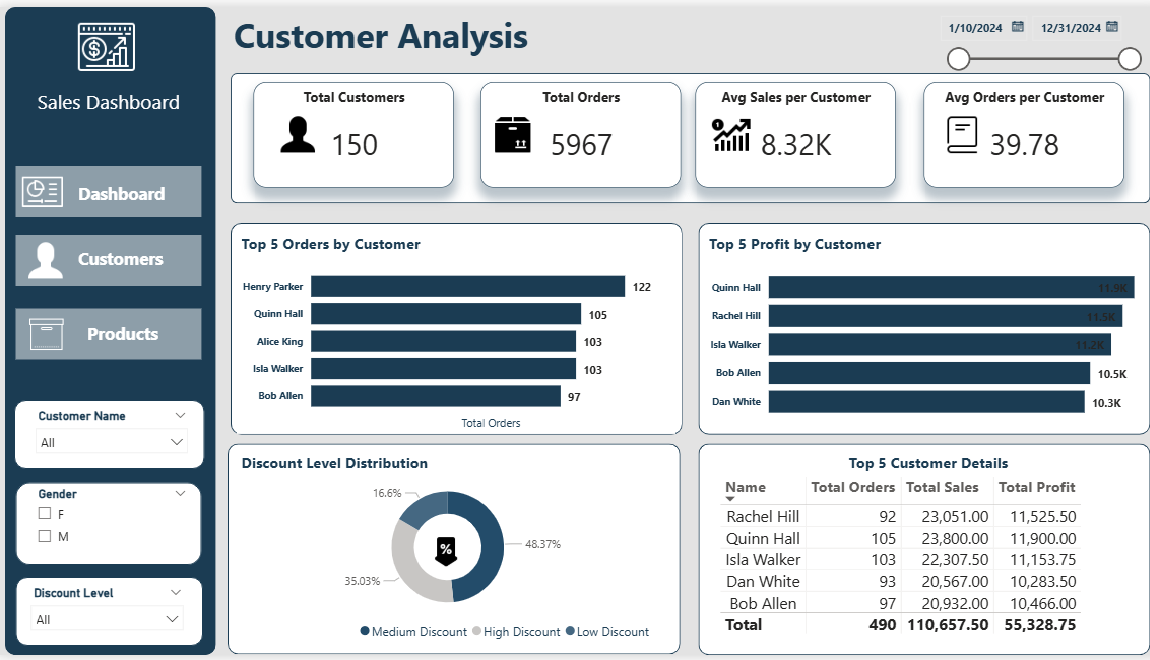

What the dashboard file says about the page in this screenshot:
{"tool":"powerbi","page":{"name":"Customer Analysis","canvas":[1280,720],"ordinal":1},"visuals":[{"type":"shape","box":[9.4,0,230.6,720],"z":0},{"type":"actionButton","box":[21.7,176.7,203.2,56.7],"z":0,"group":"g1"},{"type":"shape","box":[255.9,73.1,1006.1,144.6],"z":1000},{"type":"image","box":[21.7,176.7,58.6,56.7],"z":1000,"group":"g1"},{"type":"textbox","box":[255.1,0,619.8,66.1],"z":2000},{"type":"textbox","box":[85.4,193.4,127.4,40],"z":2000,"group":"g1"},{"type":"shape","box":[255.9,240,494.3,235.2],"z":3000},{"type":"actionButton","box":[21.7,253.4,203.2,56.7],"z":3000,"group":"g1"},{"type":"card","title":"Avg Orders per Customer","fields":{"Values":["Sales.Avg Orders per Customers"]},"box":[1014.8,83.2,219.2,117.2],"z":4000},{"type":"textbox","box":[85.4,266.7,142.9,43.3],"z":4000,"group":"g1"},{"type":"card","title":"Avg Sales per Customer","fields":{"Values":["Sales.Avg Sales per Customers"]},"box":[765.4,83.2,219.2,117.2],"z":5000},{"type":"actionButton","box":[21.7,335,203.2,56.7],"z":5000,"group":"g1"},{"type":"card","title":"Total Customers","fields":{"Values":["Count(Customers.Customer_ID)"]},"box":[281.6,83.2,219.2,117.2],"z":6000},{"type":"textbox","box":[95.8,340,111.9,51.7],"z":6000,"group":"g1"},{"type":"card","title":"Total Orders","fields":{"Values":["Sales.Total Orders"]},"box":[529.3,82.6,219.3,117.6],"z":7000},{"type":"image","box":[26.9,325,56.8,76.7],"z":7000,"group":"g1"},{"type":"image","box":[536.7,113.4,56.7,56.7],"z":8000},{"type":"image","box":[25.1,253.4,58.6,56.7],"z":8000,"group":"g1"},{"type":"image","box":[302.4,113.4,56.7,56.7],"z":9000},{"type":"image","box":[774.8,113.4,56.7,56.7],"z":10000},{"type":"shape","box":[767.7,240,494.3,235.2],"z":11000},{"type":"shape","box":[253.2,485.7,495.1,234.3],"z":12000},{"type":"shape","box":[767.7,484.8,494.3,235.2],"z":13000},{"type":"barChart","title":"Top 5 Orders by Customer","fields":{"Category":["Customers.Name"],"Y":["Sales.Total Orders"]},"box":[262.7,251.3,480,223],"z":14000},{"type":"barChart","title":"Top 5 Profit by Customer","fields":{"Category":["Customers.Name"],"Y":["Sales.Total Profit"]},"box":[774.8,251.3,478.1,217.3],"z":15000},{"type":"donutChart","title":"Discount Level Distribution","fields":{"Category":["Sales.Discount Level"],"Y":["Sum(Sales.Discount)"]},"box":[262.7,495.1,461.1,217.3],"z":16000},{"type":"image","box":[468.9,577,47.7,57.2],"z":17000},{"type":"tableEx","title":"Top 5 Customer Details","fields":{"Values":["Customers.Name","Sales.Total Orders","Sales.Total Sales","Sales.Total Profit"]},"box":[786.7,495,466.7,216.7],"z":18000},{"type":"shape","box":[20,436.7,208.3,76.7],"z":19000},{"type":"slicer","fields":{"Values":["Customers.Name"]},"box":[33.3,441.7,186.7,66.7],"z":20000},{"type":"shape","box":[21.7,633.3,205,76.7],"z":21000},{"type":"slicer","fields":{"Values":["Sales.Discount Level"]},"box":[28.3,638.3,186.7,66.7],"z":22000},{"type":"slicer","fields":{"Values":["Sales.Date"]},"box":[1020.4,0,241.6,73.1],"z":23000},{"type":"image","box":[70.3,2.8,101.7,81.7],"z":24000,"group":"g2"},{"type":"image","box":[1028.3,112.8,57.2,57.2],"z":24000},{"type":"textbox","box":[20.3,84.5,206.7,50],"z":25000,"group":"g2"},{"type":"group","id":"g1","title":"Group 1","box":[21.7,176.7,206.7,225],"z":25000},{"type":"group","id":"g2","title":"Group 2","box":[20.3,2.8,206.7,131.7],"z":26000},{"type":"shape","box":[21.7,528.3,203.3,91.7],"z":27000},{"type":"slicer","fields":{"Values":["Customers.Gender"]},"box":[33.3,528.3,186.7,86.7],"z":28000}]}

Visuals, with their boxes in screenshot pixels (x1, y1, x2, y2), scaled from the page's 1280x720 canvas onto the 1150x660 screenshot:
shape: (left=8, top=0, right=216, bottom=659)
actionButton: (left=19, top=162, right=202, bottom=214)
shape: (left=230, top=67, right=1134, bottom=200)
image: (left=19, top=162, right=72, bottom=214)
textbox: (left=229, top=0, right=786, bottom=61)
textbox: (left=77, top=177, right=191, bottom=214)
shape: (left=230, top=220, right=674, bottom=436)
actionButton: (left=19, top=232, right=202, bottom=284)
"Avg Orders per Customer" card: (left=912, top=76, right=1109, bottom=184)
textbox: (left=77, top=244, right=205, bottom=284)
"Avg Sales per Customer" card: (left=688, top=76, right=885, bottom=184)
actionButton: (left=19, top=307, right=202, bottom=359)
"Total Customers" card: (left=253, top=76, right=450, bottom=184)
textbox: (left=86, top=312, right=187, bottom=359)
"Total Orders" card: (left=476, top=76, right=673, bottom=184)
image: (left=24, top=298, right=75, bottom=368)
image: (left=482, top=104, right=533, bottom=156)
image: (left=23, top=232, right=75, bottom=284)
image: (left=272, top=104, right=323, bottom=156)
image: (left=696, top=104, right=747, bottom=156)
shape: (left=690, top=220, right=1134, bottom=436)
shape: (left=227, top=445, right=672, bottom=659)
shape: (left=690, top=444, right=1134, bottom=659)
"Top 5 Orders by Customer" barChart: (left=236, top=230, right=667, bottom=435)
"Top 5 Profit by Customer" barChart: (left=696, top=230, right=1126, bottom=430)
"Discount Level Distribution" donutChart: (left=236, top=454, right=650, bottom=653)
image: (left=421, top=529, right=464, bottom=581)
"Top 5 Customer Details" tableEx: (left=707, top=454, right=1126, bottom=652)
shape: (left=18, top=400, right=205, bottom=471)
slicer - Customers.Name: (left=30, top=405, right=198, bottom=466)
shape: (left=19, top=581, right=204, bottom=651)
slicer - Sales.Discount Level: (left=25, top=585, right=193, bottom=646)
slicer - Sales.Date: (left=917, top=0, right=1134, bottom=67)
image: (left=63, top=3, right=155, bottom=77)
image: (left=924, top=103, right=975, bottom=156)
textbox: (left=18, top=77, right=204, bottom=123)
"Group 1" group: (left=19, top=162, right=205, bottom=368)
"Group 2" group: (left=18, top=3, right=204, bottom=123)
shape: (left=19, top=484, right=202, bottom=568)
slicer - Customers.Gender: (left=30, top=484, right=198, bottom=564)
